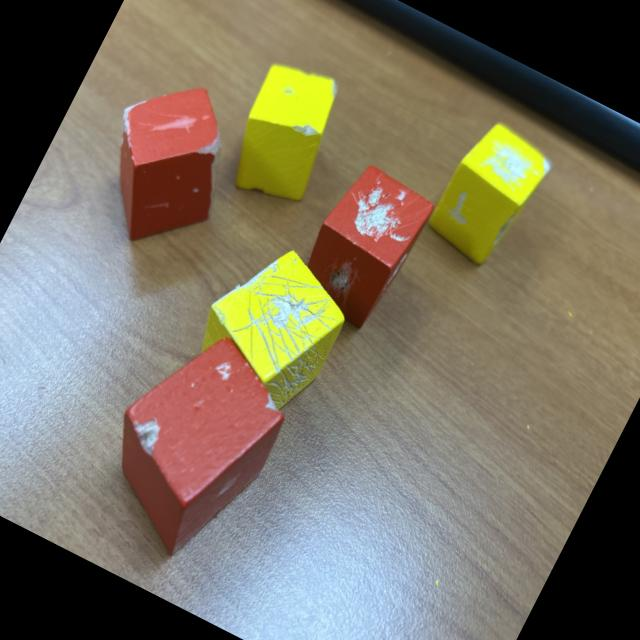broken: (75, 312, 309, 578), (73, 60, 262, 270), (181, 228, 365, 422), (286, 157, 439, 336), (212, 50, 359, 218), (418, 112, 560, 276)
